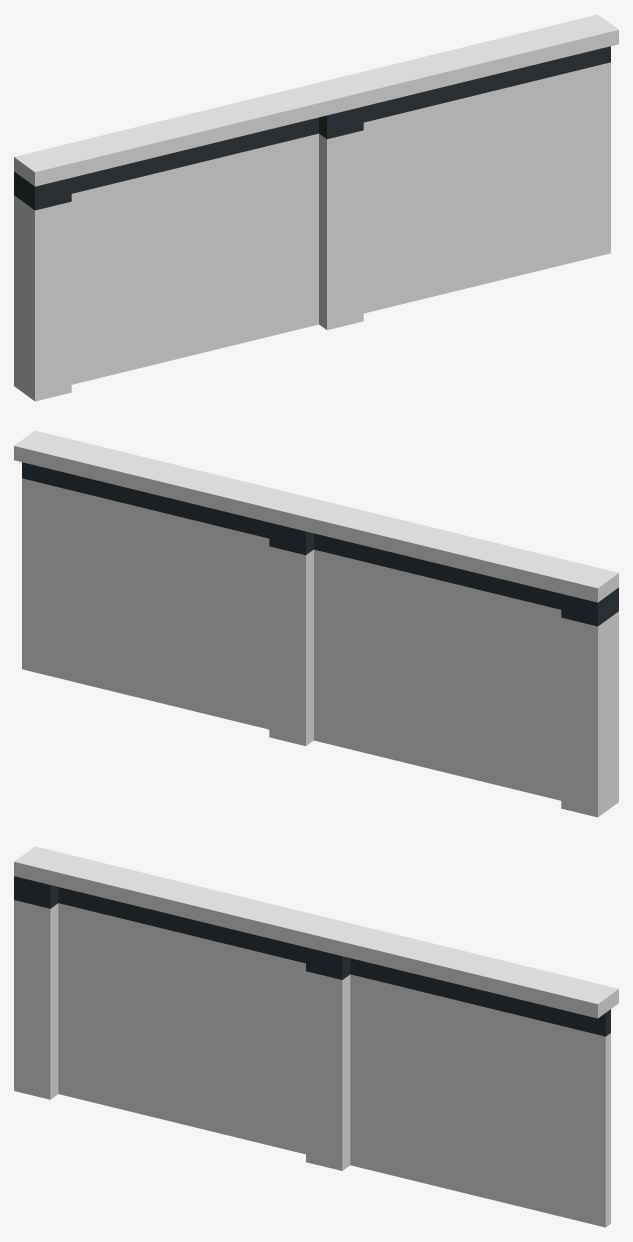
The model's file is penghubung_outside_corridor.obj.
3 views of the same model, one above another, from view 1: azimuth 30°, elevation 25°; view 2: azimuth 150°, elevation 25°; view 3: azimuth 330°, elevation 25° (orthographic).
Size of the model in its own units: 12.8 by 4.8 by 0.8.
1 material, 1 textured.
